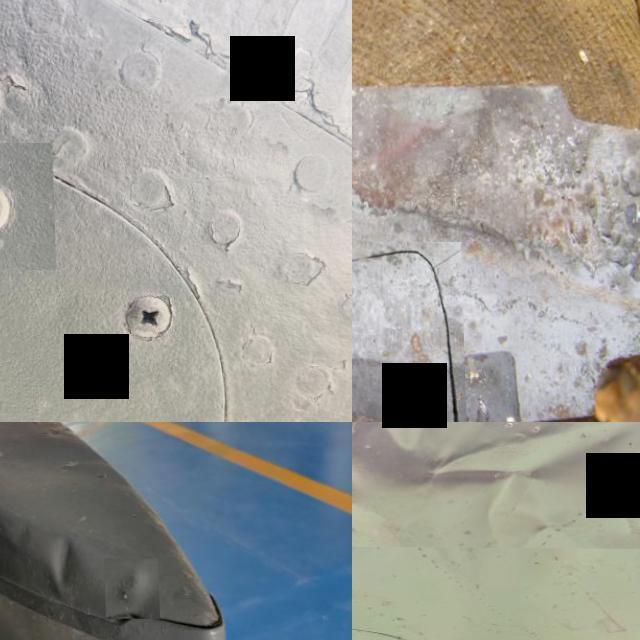Crack: (352, 242, 462, 422)
Dent: (352, 422, 640, 548), (33, 528, 84, 602), (102, 558, 158, 618)
Missing_Fastener: (0, 141, 54, 269)
